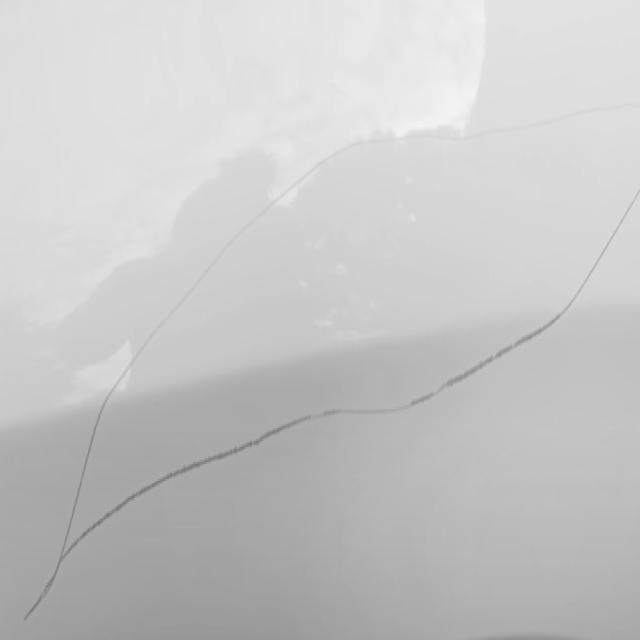crack: (114, 68, 538, 411), (111, 299, 582, 523)
